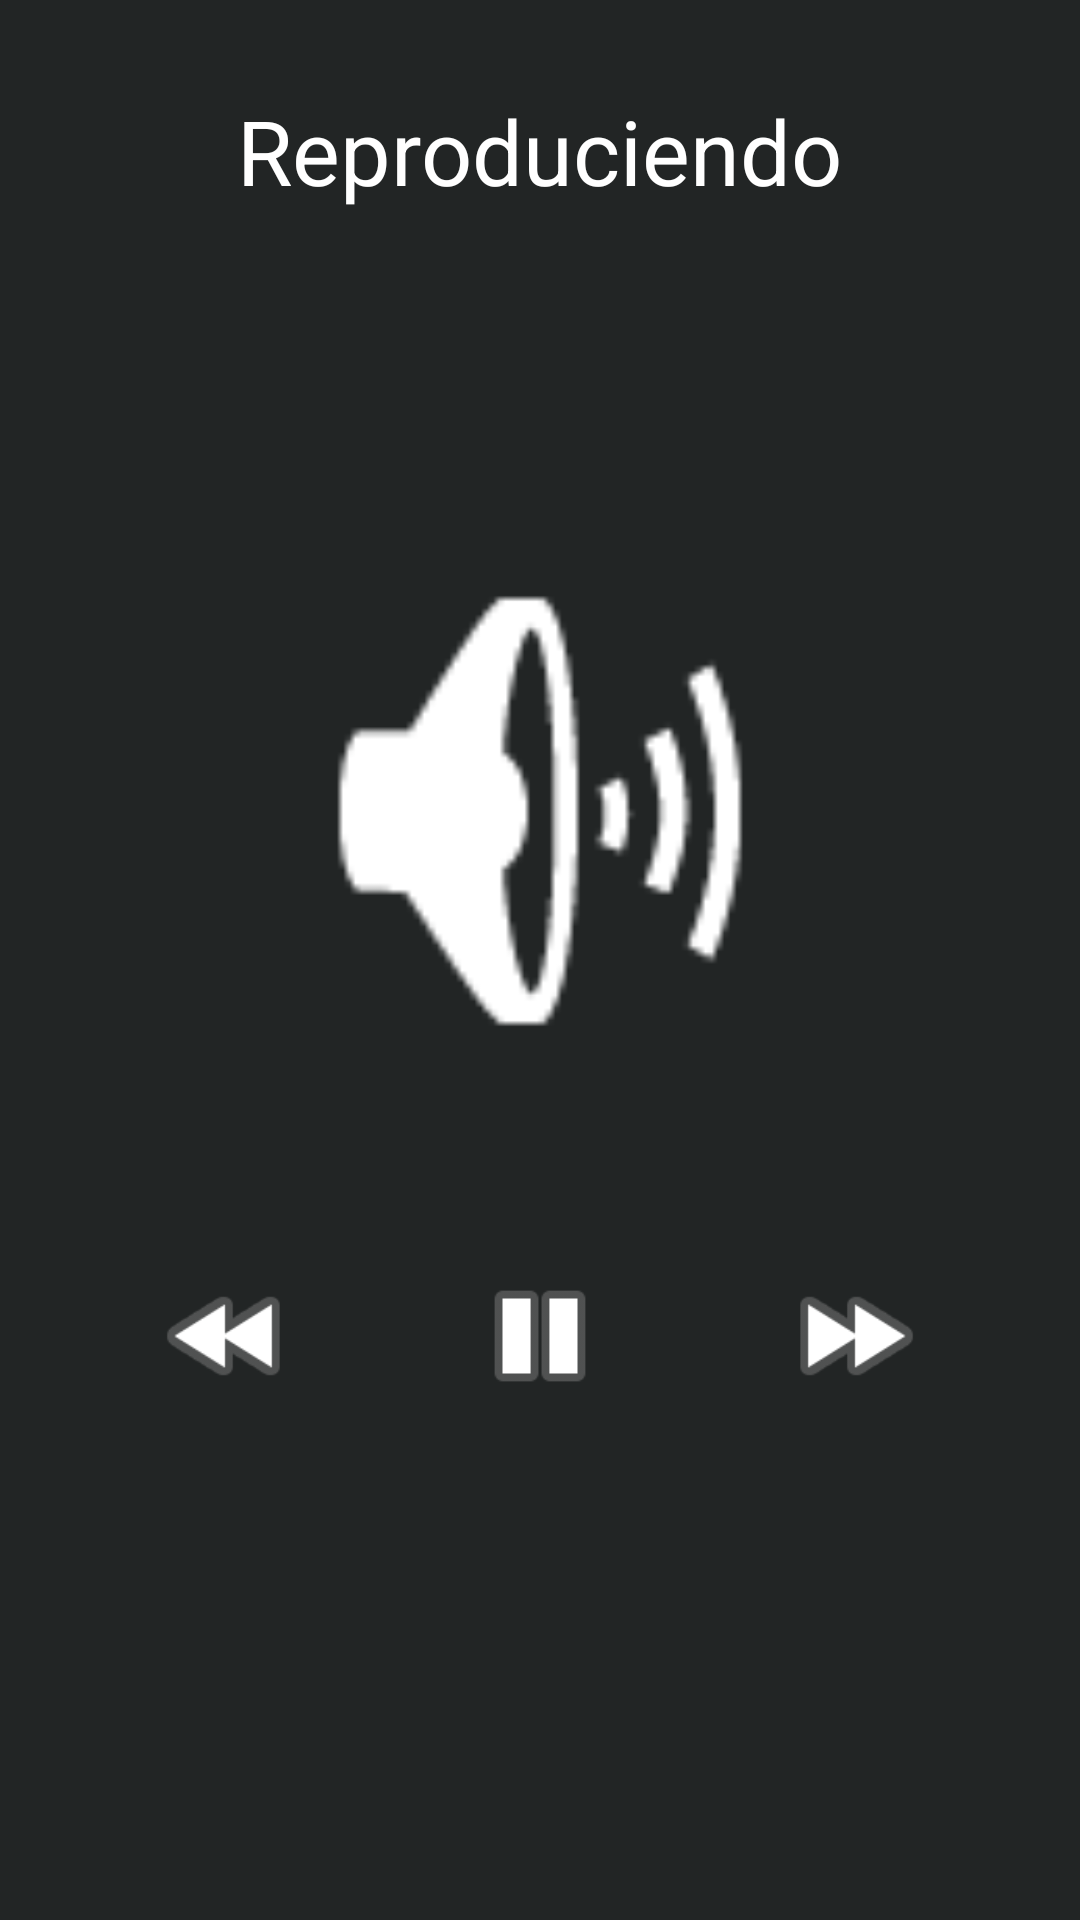

Screen size 1080 x 1920. Icon name, then its box in pixels as (x1, y1, x2, y2):
adelante: (800, 1297, 913, 1375)
atras: (167, 1297, 280, 1375)
